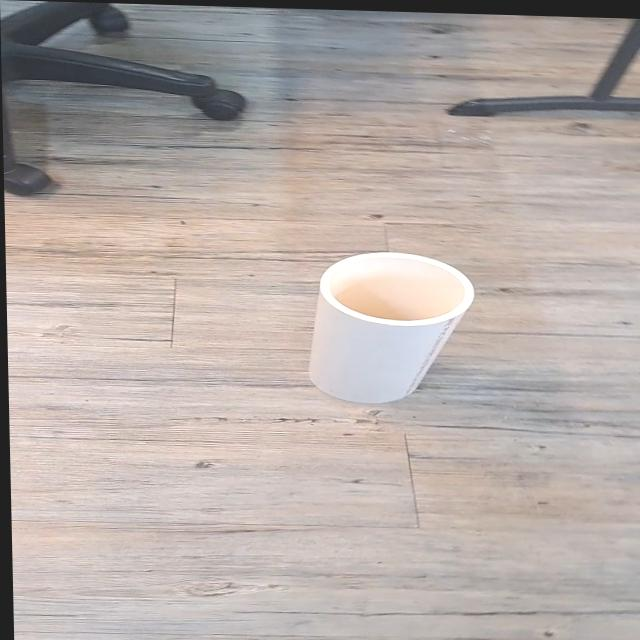CORAL: (305, 242, 484, 416)
